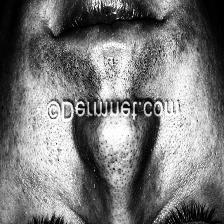Non-Cancerous Skin Condition: (92, 124, 139, 176)
